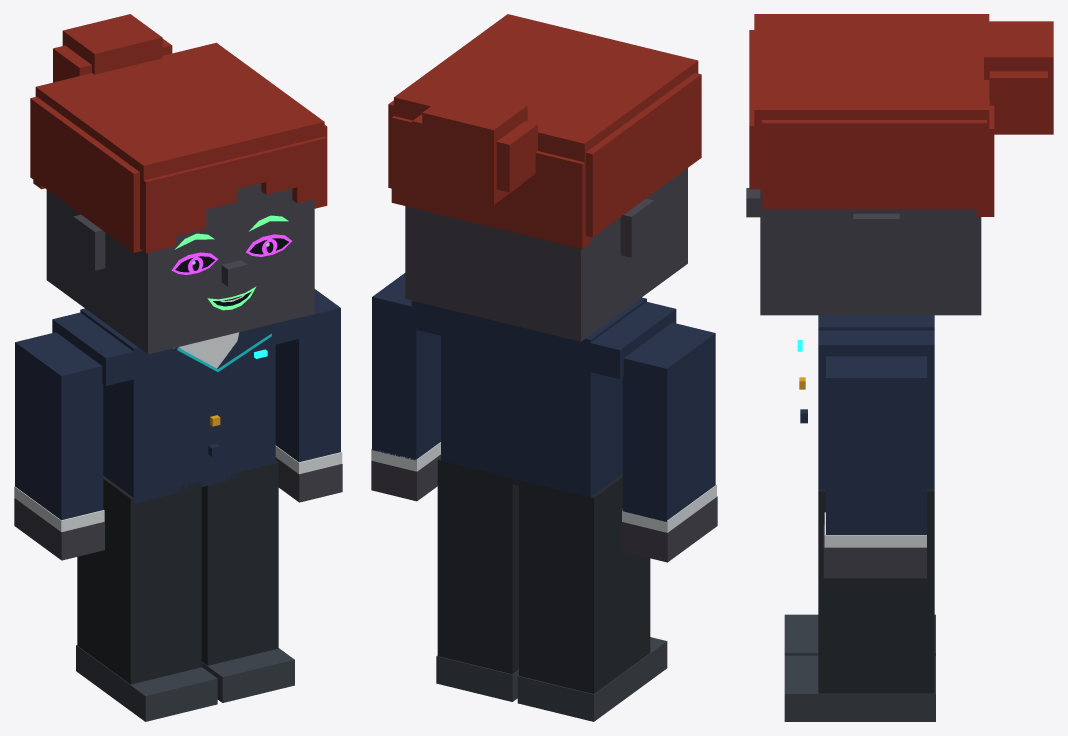
Rendered from sample_2.glb.
3 views of the same model, side by side, from view 1: azimuth 30°, elevation 25°; view 2: azimuth 150°, elevation 25°; view 3: azimuth 270°, elevation 25° (orthographic). The views are drawn at different scales.
Visible parts, largest first — view 1: char_hair_visual, char_torso_visual, char_head_visual, char_leg_negx_visual, char_arm_negx_visual, char_leg_posx_visual, char_arm_posx_visual, char_hand_negx_visual, char_hand_posx_visual, char_eye_posx_visual, char_eye_negx_visual; view 2: char_hair_visual, char_torso_visual, char_head_visual, char_leg_negx_visual, char_arm_negx_visual, char_leg_posx_visual, char_arm_posx_visual, char_hand_negx_visual, char_hand_posx_visual; view 3: char_hair_visual, char_head_visual, char_arm_posx_visual, char_leg_posx_visual, char_torso_visual, char_hand_posx_visual, char_leg_negx_visual.
Part boxes in pixels (x1,y1,x2,y2): char_hair_visual: (30, 14, 327, 253); char_torso_visual: (52, 308, 303, 574); char_head_visual: (46, 183, 314, 354); char_leg_negx_visual: (76, 551, 217, 721); char_arm_negx_visual: (14, 332, 104, 532); char_leg_posx_visual: (201, 534, 294, 702); char_arm_posx_visual: (275, 289, 342, 474); char_hand_negx_visual: (14, 498, 104, 560); char_hand_posx_visual: (275, 457, 342, 502); char_eye_posx_visual: (245, 234, 291, 256); char_eye_negx_visual: (171, 252, 217, 274); char_hair_visual: (388, 14, 701, 248); char_torso_visual: (411, 297, 676, 572); char_head_visual: (405, 168, 687, 341); char_leg_negx_visual: (517, 552, 667, 721); char_arm_negx_visual: (622, 322, 716, 532); char_leg_posx_visual: (436, 535, 518, 701); char_arm_posx_visual: (371, 273, 440, 471); char_hand_negx_visual: (622, 496, 717, 562); char_hand_posx_visual: (371, 454, 440, 501); char_hair_visual: (749, 14, 1053, 216); char_head_visual: (746, 188, 981, 315); char_arm_posx_visual: (824, 356, 926, 547); char_leg_posx_visual: (784, 568, 935, 721); char_torso_visual: (799, 315, 934, 568); char_hand_posx_visual: (823, 524, 926, 578); char_leg_negx_visual: (784, 614, 935, 655).
Bounding box in the file's own units: 0.91 × 1.83 × 0.793.
